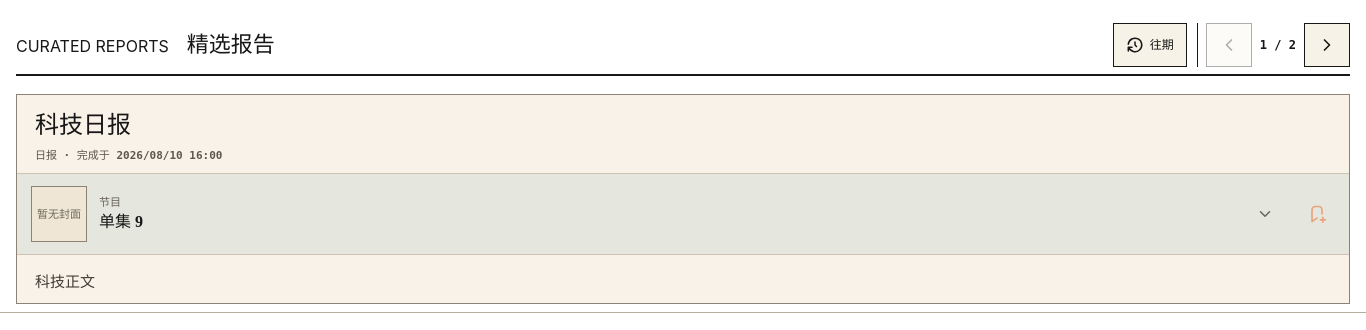
Test: WorkflowReportWorkbench › shows every report from the latest historical day when today is empty
Expected: the heading "科技日报" is shown, [35,112,131,138]
Expected: the text "日报 · 完成于 2026/08/10 16:00" is shown, [35,149,222,162]
Click the button named "查看更早一份报告".
click(1327, 45)  # box [1304,23,1350,67]
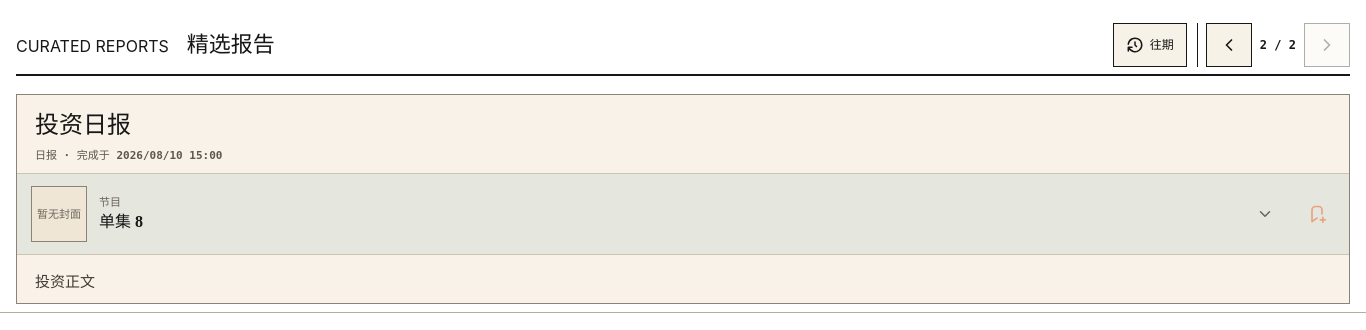
Expected: the message reads "2 / 2", [1260,38,1296,52]
Expected: the heading "投资日报" is shown, [35,112,131,138]
Expected: the text "日报 · 完成于 2026/08/10 15:00" is shown, [35,149,222,162]
